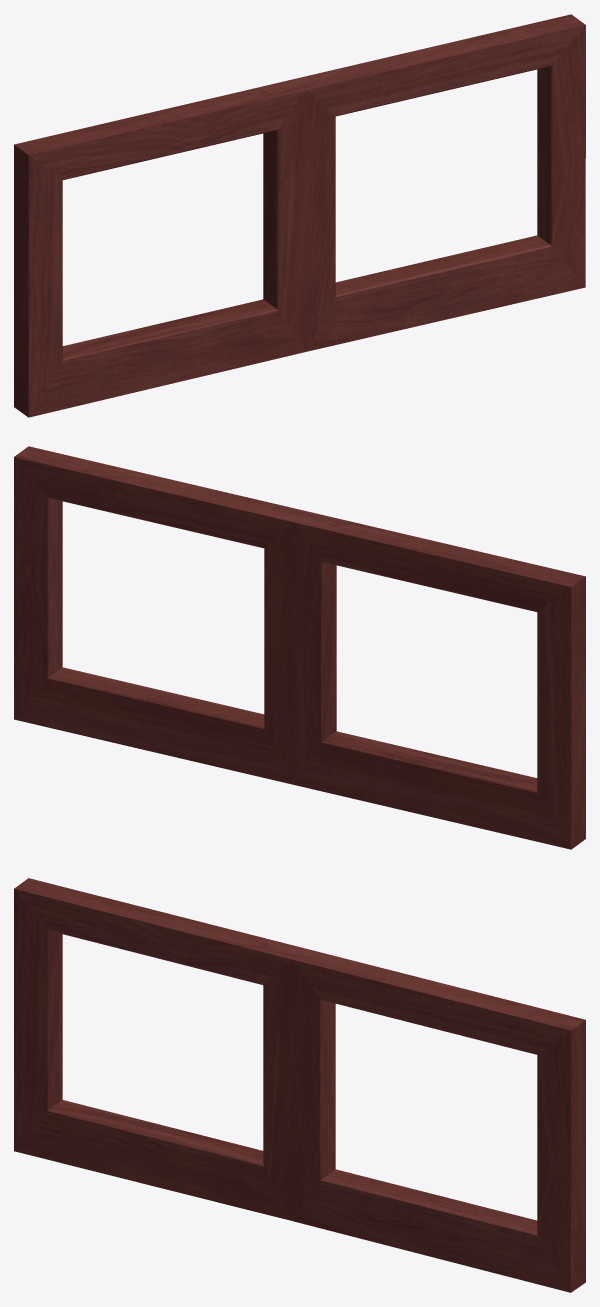
File: SM_GJJ_2F_Windowframe01C.fbx
3 views of the same model, one above another, from view 1: azimuth 30°, elevation 25°; view 2: azimuth 150°, elevation 25°; view 3: azimuth 330°, elevation 25° (orthographic).
Parts seen in each view (by area): view 1: SM_GJJ_2F_Windowframe01C; view 2: SM_GJJ_2F_Windowframe01C; view 3: SM_GJJ_2F_Windowframe01C.
Boxes of the visible parts, x1=… form: SM_GJJ_2F_Windowframe01C: x1=14, y1=14, x2=585, y2=417; SM_GJJ_2F_Windowframe01C: x1=14, y1=446, x2=585, y2=849; SM_GJJ_2F_Windowframe01C: x1=14, y1=878, x2=585, y2=1292.
Bounding box in the file's own units: 99.56 × 4.53 × 45.8.
1 material, 1 textured.
